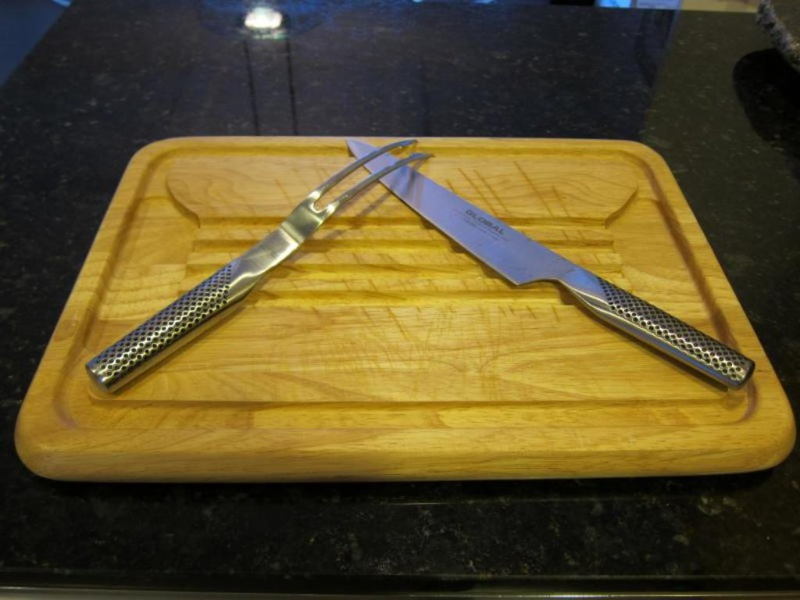knife: (190, 106, 800, 595)
